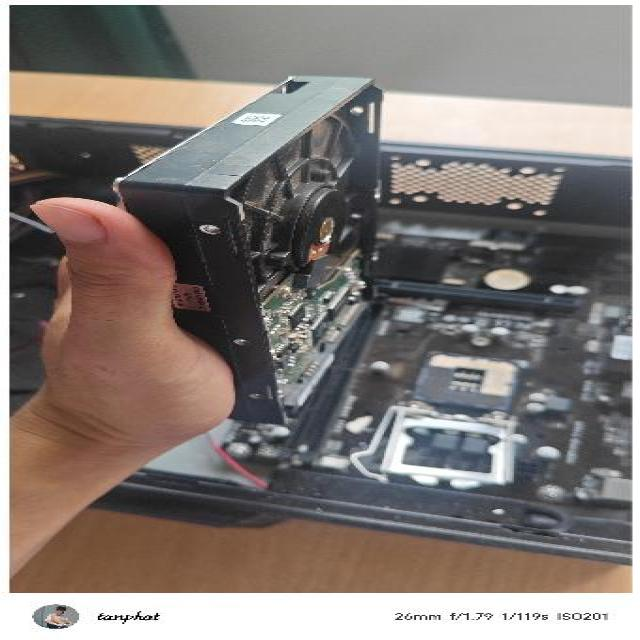DISK: (108, 70, 410, 428)
